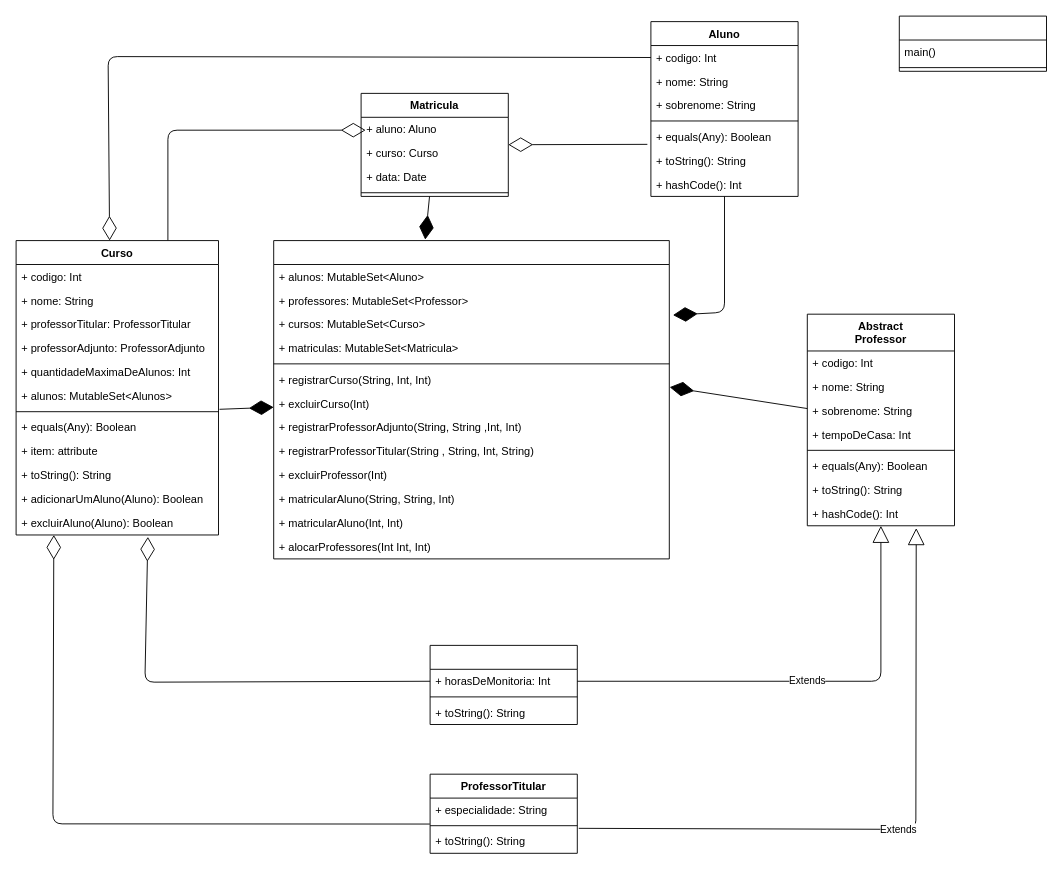
The diagram is 1063 pixels wide and 872 high, and some of its shapes have lost their labels. Each missing label, with the box of its shape:
DigitalHouseManager: (273, 240, 669, 559)
Principal: (898, 15, 1046, 71)
ProfessorAdjunto: (429, 644, 577, 724)
